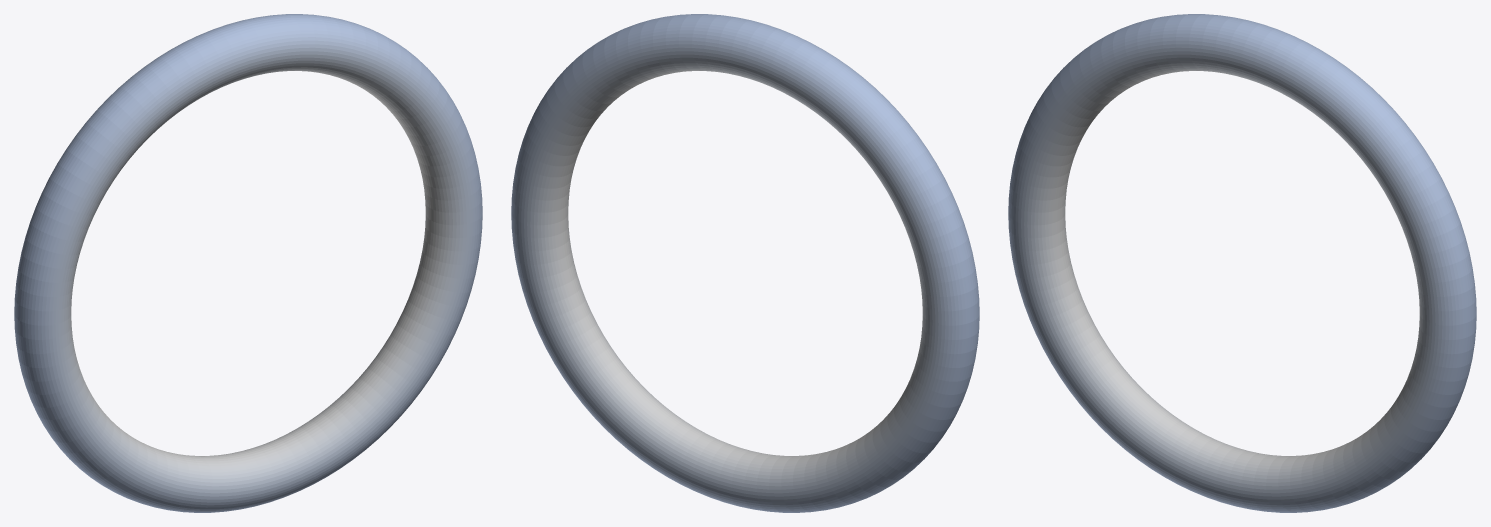
3 views of the same model, side by side, from view 1: azimuth 30°, elevation 25°; view 2: azimuth 150°, elevation 25°; view 3: azimuth 330°, elevation 25° (orthographic).
Parts seen in each view (by area): view 1: world; view 2: world; view 3: world.
Part boxes in pixels (box(x1,y1,x2,y2)): world: box(14, 14, 482, 512); world: box(511, 14, 979, 512); world: box(1008, 14, 1476, 512).
Bounding box in the file's own units: 18.67 × 18.67 × 2.
